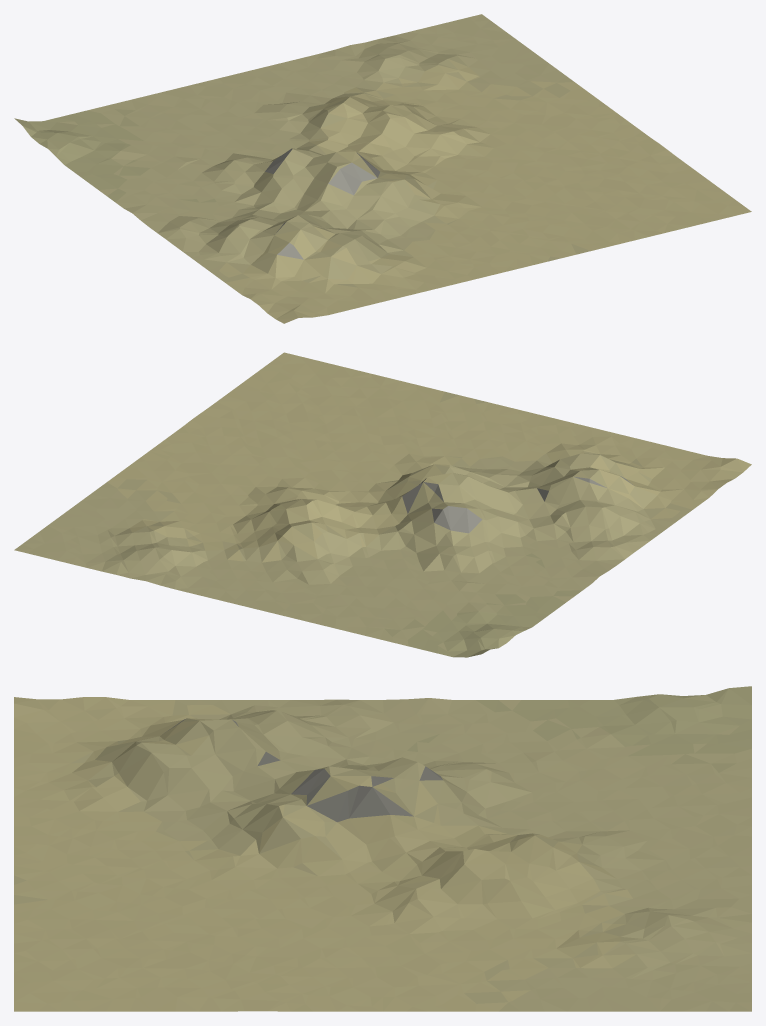
The model's file is Ground_-2_5.glb.
3 views of the same model, one above another, from view 1: azimuth 30°, elevation 25°; view 2: azimuth 150°, elevation 25°; view 3: azimuth 270°, elevation 25° (orthographic). The views are drawn at different scales.
Parts seen in each view (by area): view 1: Ground_-2_5; view 2: Ground_-2_5; view 3: Ground_-2_5.
Boxes of the visible parts, x1,y1,x2,y2 form: Ground_-2_5: (14, 14, 751, 323); Ground_-2_5: (14, 352, 751, 657); Ground_-2_5: (14, 686, 751, 1011).
Size of the model in its own units: 768 by 53.04 by 768.
